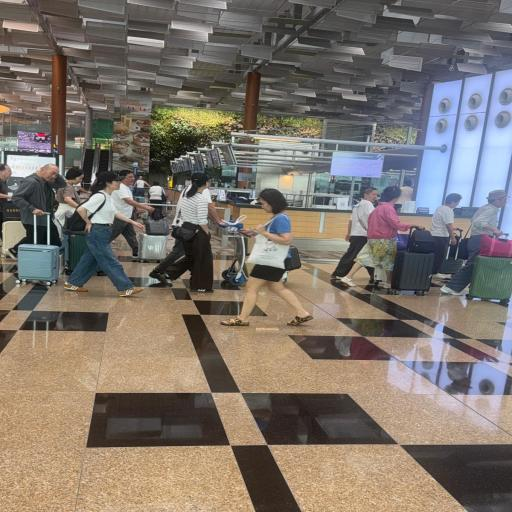person_left: (220, 188, 314, 326)
person_right: (64, 171, 144, 297), (150, 172, 220, 294), (330, 186, 378, 286), (54, 168, 92, 238), (0, 163, 15, 221), (148, 180, 168, 220), (131, 175, 150, 206)
person_with_luggage_right: (336, 186, 426, 290), (440, 190, 510, 296), (11, 163, 68, 258), (111, 170, 156, 258), (426, 193, 462, 288)
